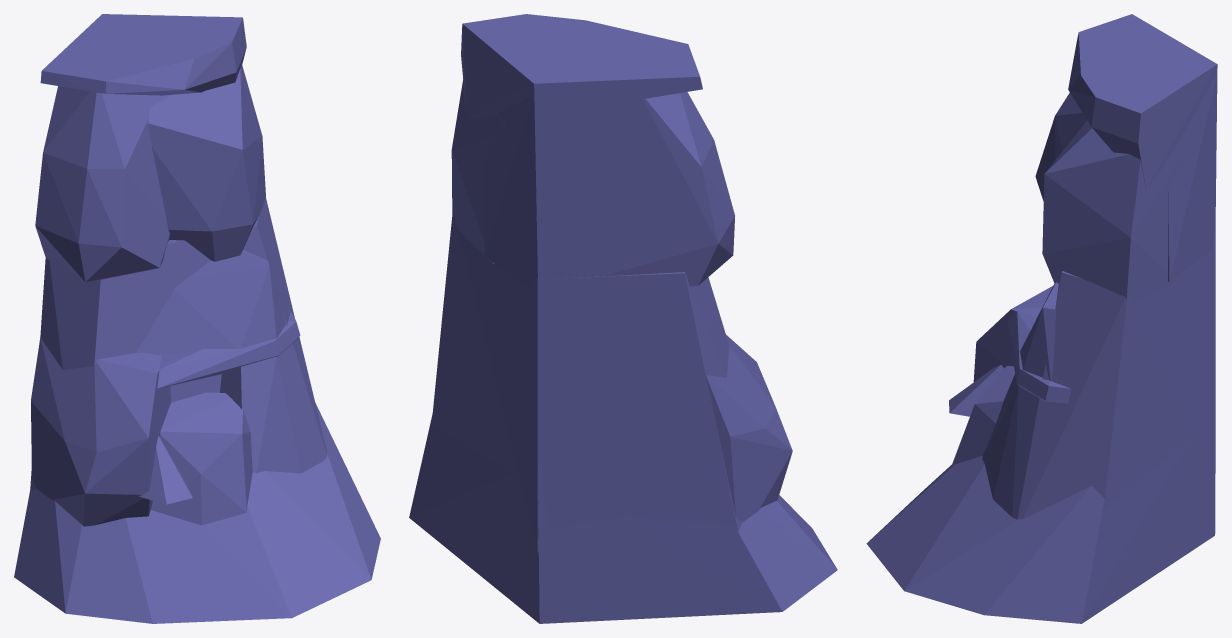
Rendered from Cliff_Corner_02_Slope_Collider_01.FBX.
3 renders of one model, left to right at view 1: azimuth 30°, elevation 25°; view 2: azimuth 150°, elevation 25°; view 3: azimuth 270°, elevation 25°, orthographic. The views are drawn at different scales.
Parts seen in each view (by area): view 1: COLLIDER1, COLLIDER2, COLLIDER6, COLLIDER5, COLLIDER4, COLLIDER3, COLLIDER8, COLLIDER9, COLLIDER10, COLLIDER7, COLLIDER11; view 2: COLLIDER4, COLLIDER2, COLLIDER1, COLLIDER3, COLLIDER6, COLLIDER5; view 3: COLLIDER1, COLLIDER4, COLLIDER5, COLLIDER3, COLLIDER2, COLLIDER10, COLLIDER9, COLLIDER6, COLLIDER8, COLLIDER7, COLLIDER11.
Boxes of the visible parts, <box> form: COLLIDER1: <box>14,403,380,623</box>; COLLIDER2: <box>35,86,169,282</box>; COLLIDER6: <box>31,338,170,526</box>; COLLIDER5: <box>148,65,265,261</box>; COLLIDER4: <box>30,197,327,489</box>; COLLIDER3: <box>40,14,246,95</box>; COLLIDER8: <box>136,250,288,355</box>; COLLIDER9: <box>151,392,252,525</box>; COLLIDER10: <box>220,343,327,473</box>; COLLIDER7: <box>157,312,300,388</box>; COLLIDER11: <box>139,436,192,504</box>; COLLIDER4: <box>431,211,741,552</box>; COLLIDER2: <box>484,89,734,290</box>; COLLIDER1: <box>409,414,837,623</box>; COLLIDER3: <box>461,14,702,118</box>; COLLIDER6: <box>705,335,792,522</box>; COLLIDER5: <box>451,79,508,264</box>; COLLIDER1: <box>866,439,1215,623</box>; COLLIDER4: <box>1017,234,1215,519</box>; COLLIDER5: <box>1042,120,1190,301</box>; COLLIDER3: <box>1068,14,1217,189</box>; COLLIDER2: <box>1035,74,1217,281</box>; COLLIDER10: <box>982,374,1039,519</box>; COLLIDER9: <box>951,366,1014,467</box>; COLLIDER6: <box>973,285,1053,381</box>; COLLIDER8: <box>1020,282,1058,381</box>; COLLIDER7: <box>1007,311,1071,403</box>; COLLIDER11: <box>949,364,1004,416</box>.
Size of the model in its own units: 485 by 665 by 447.
